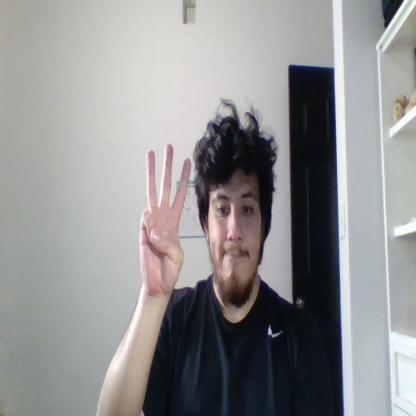W: (139, 144, 192, 294)
